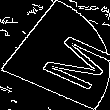M_NW: (9, 22, 101, 88)
